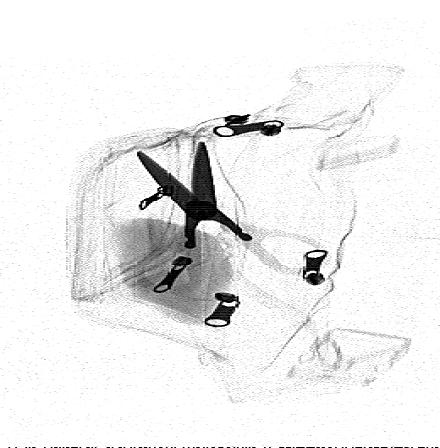Scissors: (124, 136, 336, 297)
